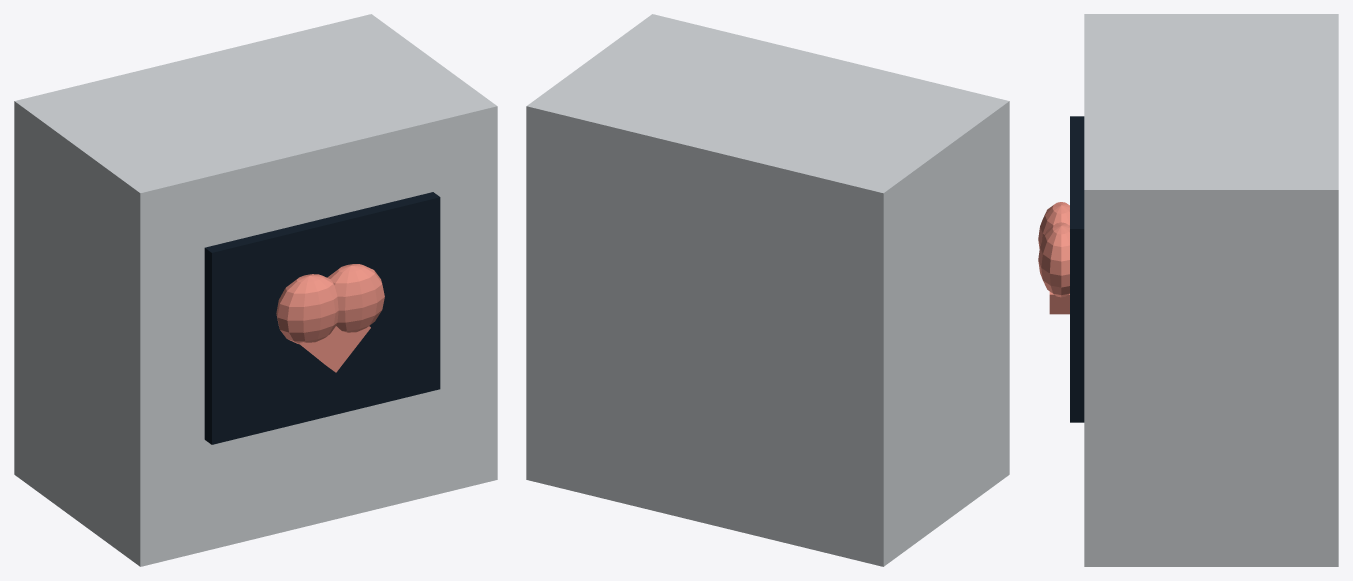
The model's file is item-med.glb.
The picture shows the model from 3 angles, left to right: view 1: azimuth 30°, elevation 25°; view 2: azimuth 150°, elevation 25°; view 3: azimuth 270°, elevation 25°; orthographic projection.
Parts seen in each view (by area): view 1: package, label, heart-left, heart-right, heart-point; view 2: package; view 3: package, label, heart-right, heart-left, heart-point.
Boxes of the visible parts, x1,y1,x2,y2 form: package: (14, 14, 497, 566); label: (204, 192, 440, 444); heart-left: (276, 274, 338, 344); heart-right: (327, 264, 384, 332); heart-point: (299, 326, 370, 372); package: (526, 14, 1009, 566); package: (1084, 14, 1338, 566); label: (1070, 116, 1084, 422); heart-right: (1038, 222, 1069, 297); heart-left: (1038, 202, 1069, 248); heart-point: (1049, 291, 1069, 314).
Bounding box in the file's own units: 0.72 × 0.72 × 0.52.
